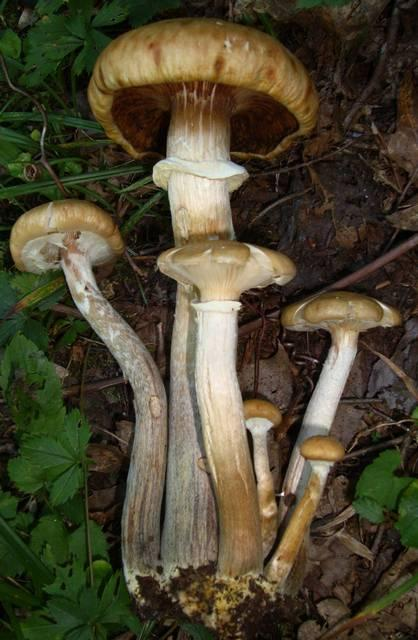Edible Mushroom: (8, 198, 169, 614), (86, 15, 320, 245), (155, 237, 297, 581), (277, 288, 402, 514)
